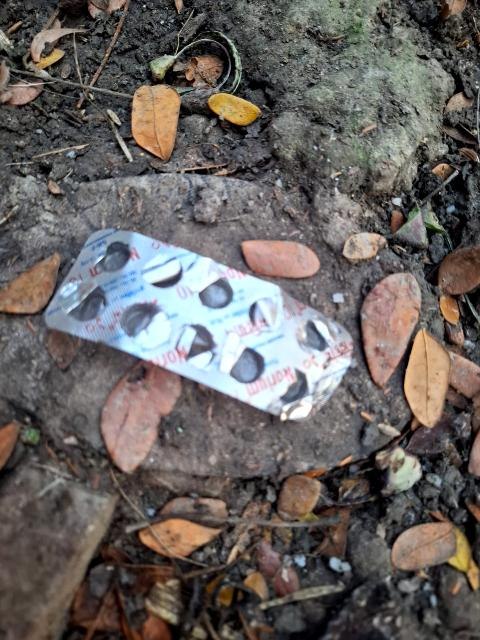medicine: (39, 211, 364, 425)
